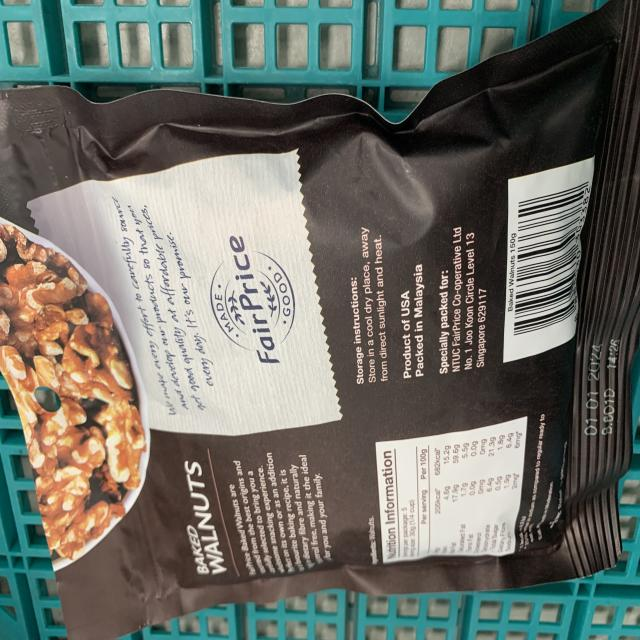object_name: (12, 92, 618, 573)
